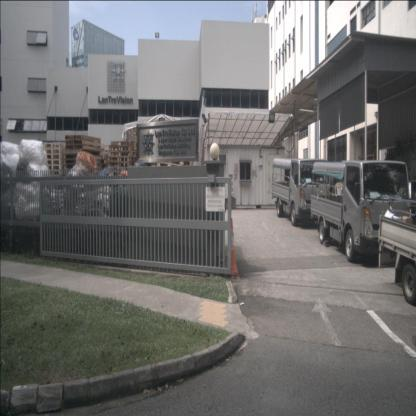cone: (226, 218, 238, 276)
